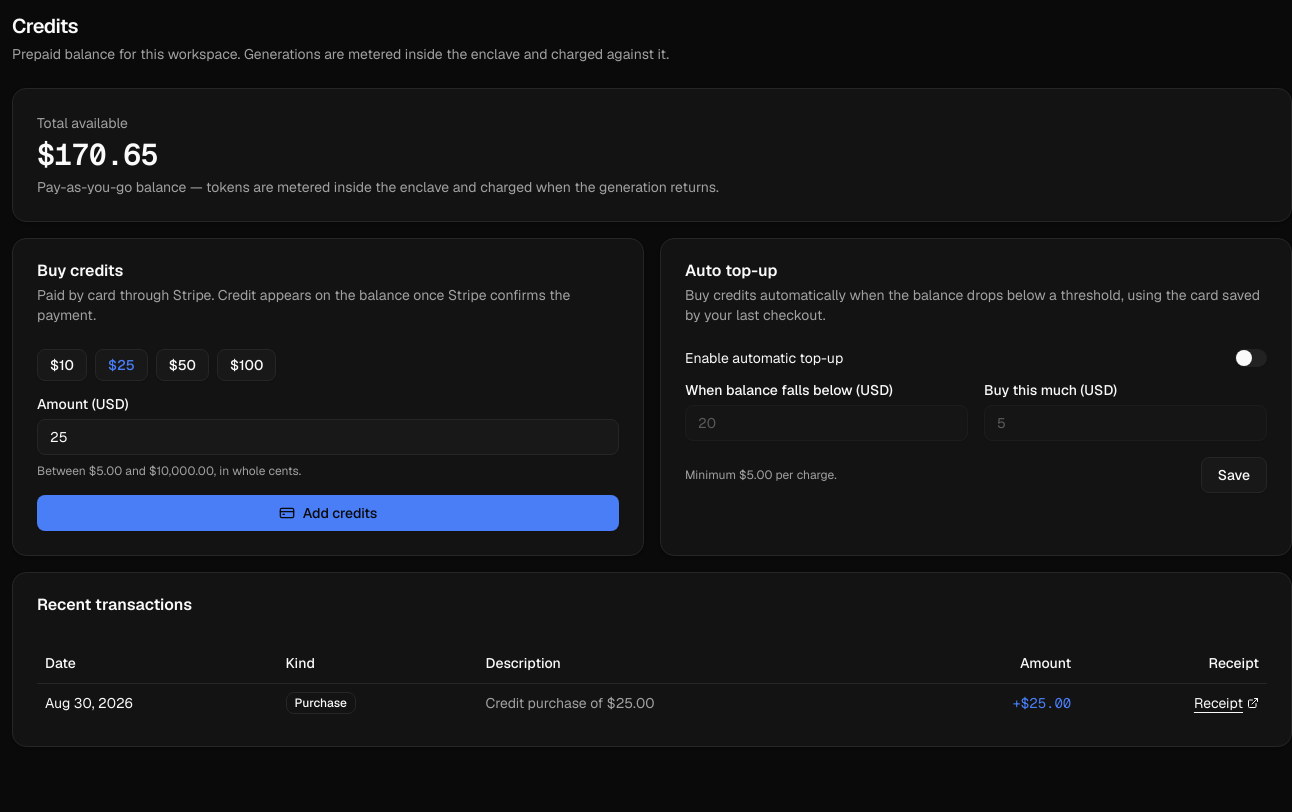
Test: CreditsScreen › refuses to save an enabled auto top-up with an empty threshold
The width and height of the screenshot is (1292, 812).
Click the switch named "Enable automatic top-up": coordinates (1251, 358) [1235,349,1267,367]
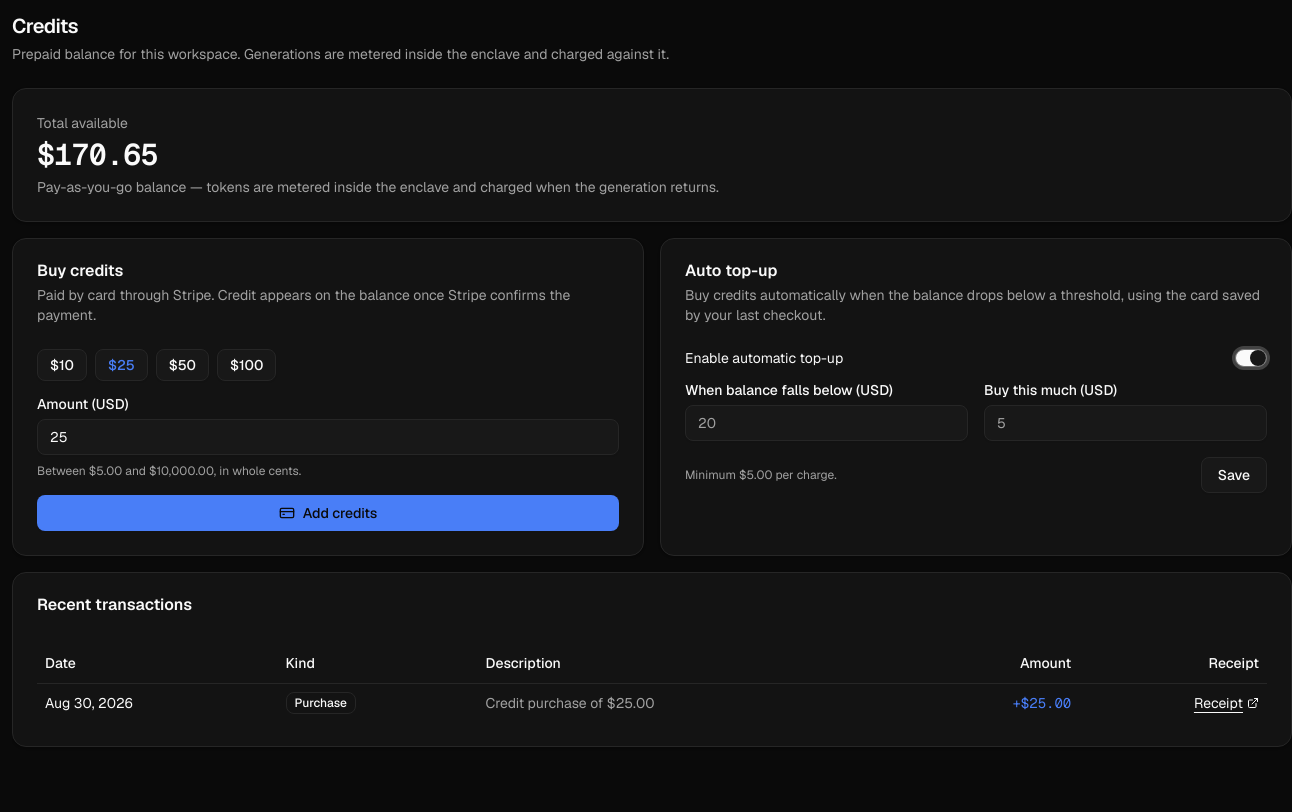
In the field labelled "Buy this much (USD)": coordinates (1126, 423) [984,405,1267,441], type "25"
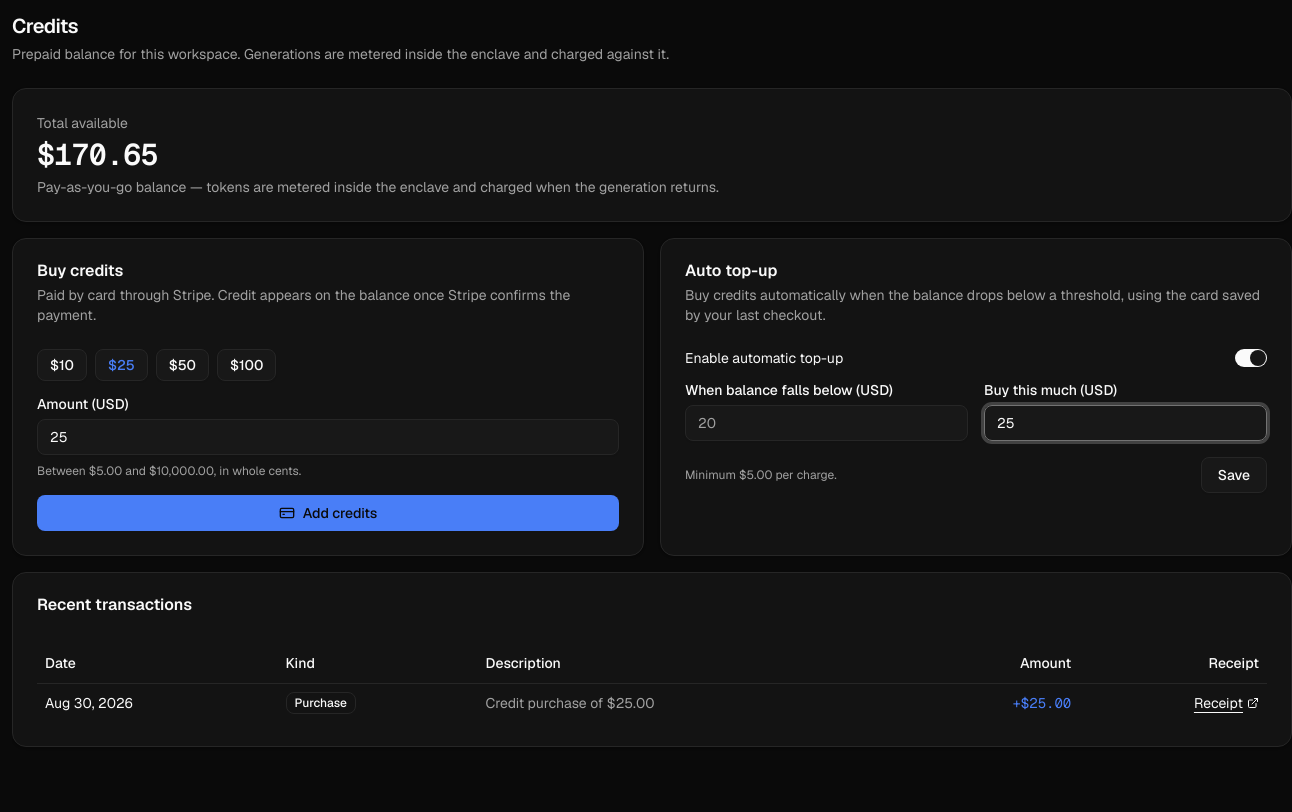
Click the button "Save": coordinates (1234, 475) [1201,457,1267,493]
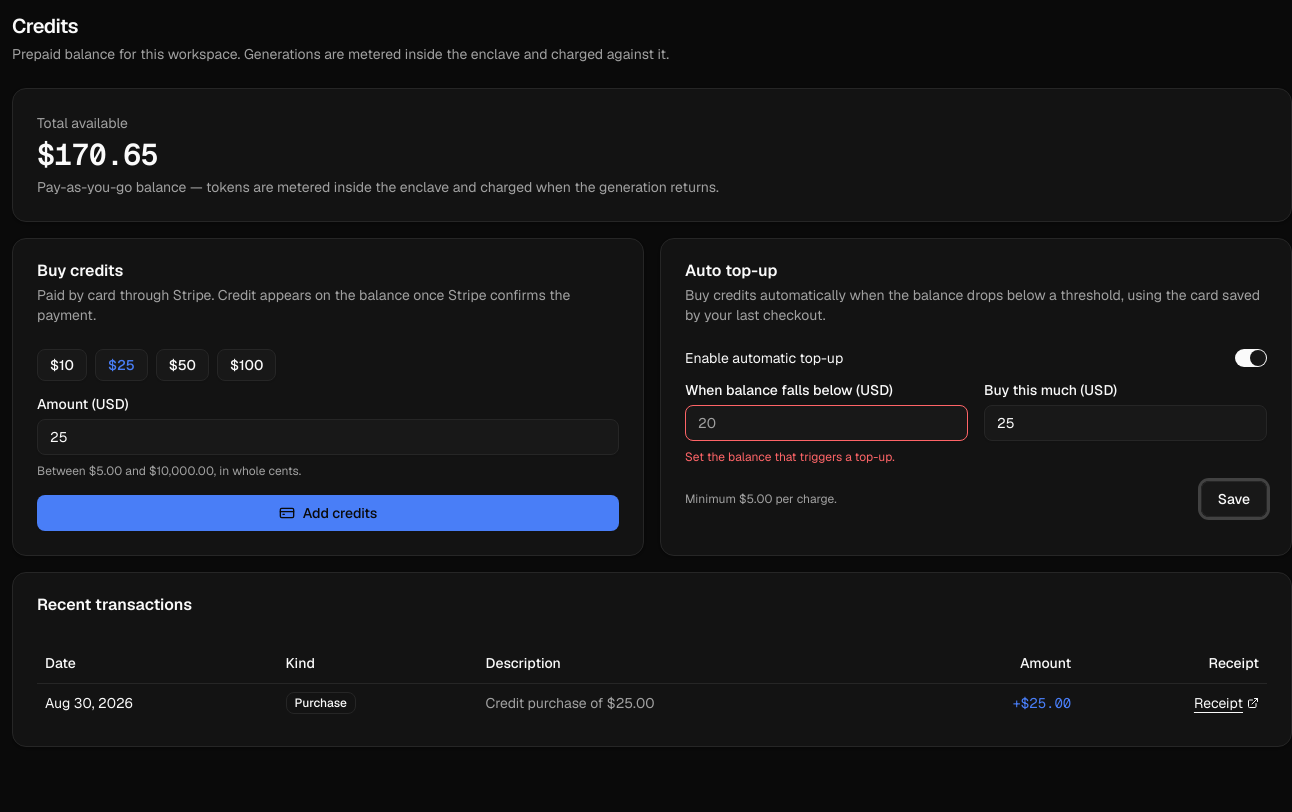
Check: the text "Set the balance that triggers a top-up." is shown, box [685,449,895,465]
